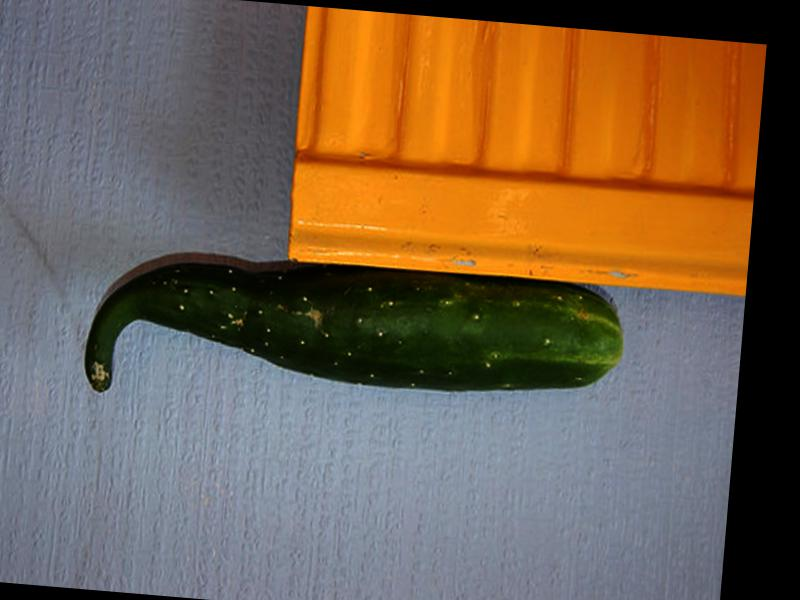Cucumber: (80, 242, 623, 436)
